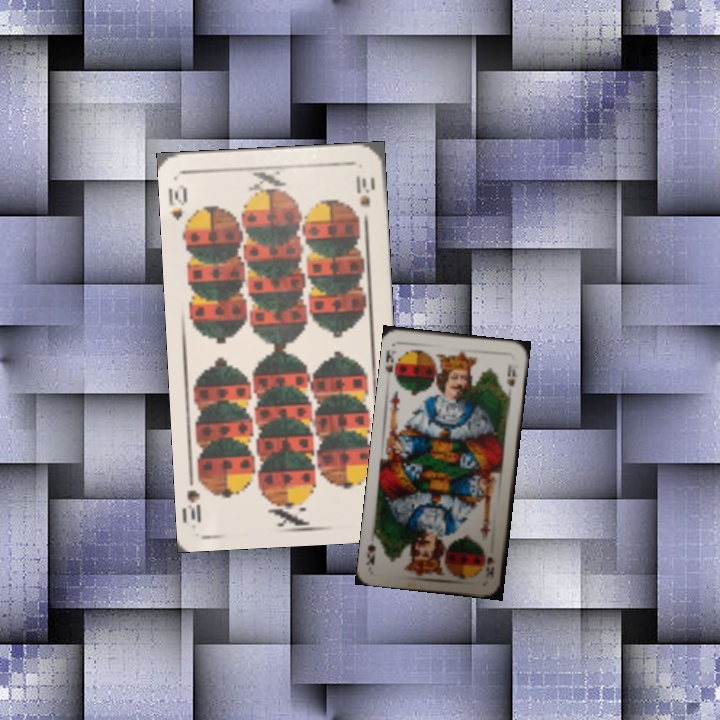S10: (165, 180, 194, 235)
SK: (382, 346, 396, 375), (482, 553, 497, 580)
